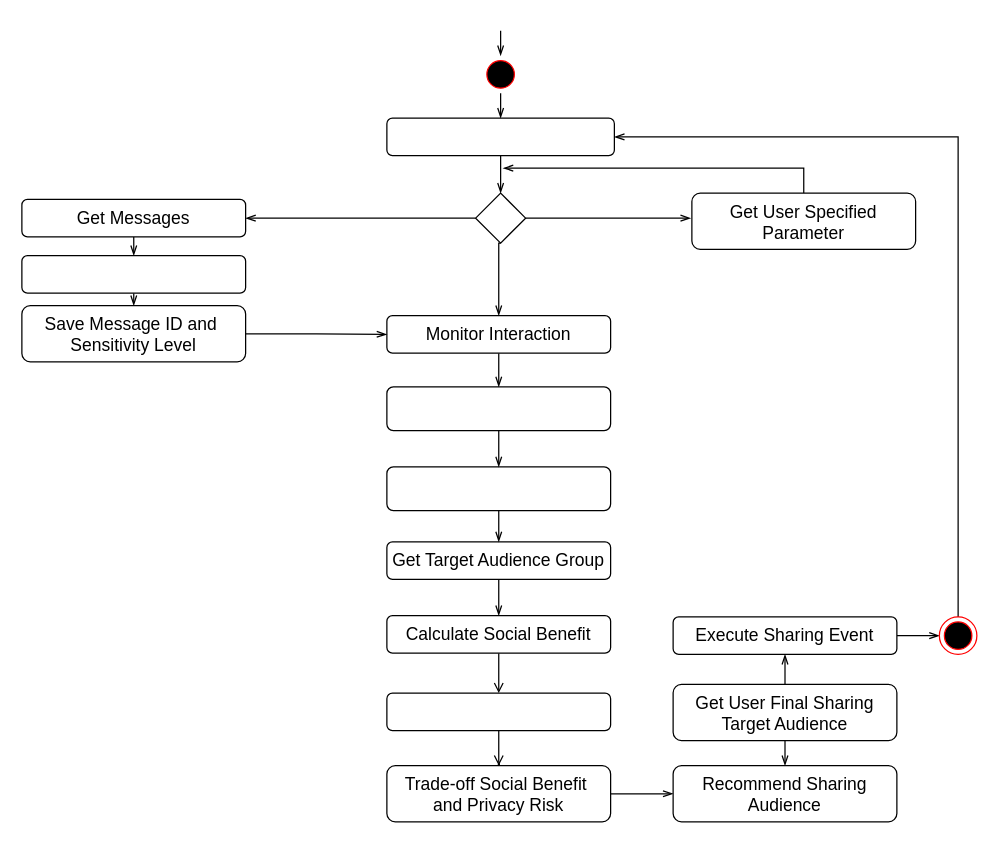
The diagram is 999 pixels wide and 844 high, and some of its shapes have lost their labels. Each missing label, with the box of its shape:
Calculate Privacy Rsk: (386, 692, 611, 731)
Get All Contacts: (386, 117, 614, 156)
Get Sensitivity Level: (21, 254, 246, 293)
Learn Model Transition Probabilities: (386, 386, 611, 431)
Update Model Parameters: (386, 466, 611, 511)
